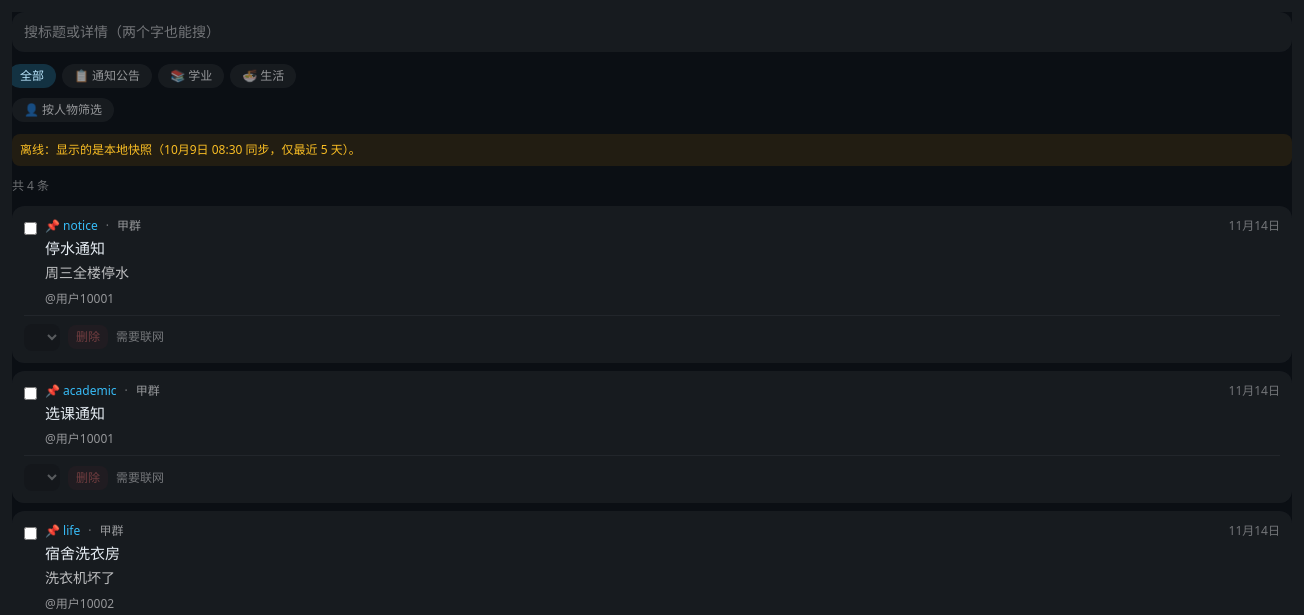
⭐ T6：离线 ⇒ 人物筛选器**有名单**(从快照取 persons),不是空名单/消失
Check: the text "停水通知" is shown, box [45, 238, 105, 258]
Click the button "👤 按人物筛选" at [63, 110], box [12, 98, 114, 122]
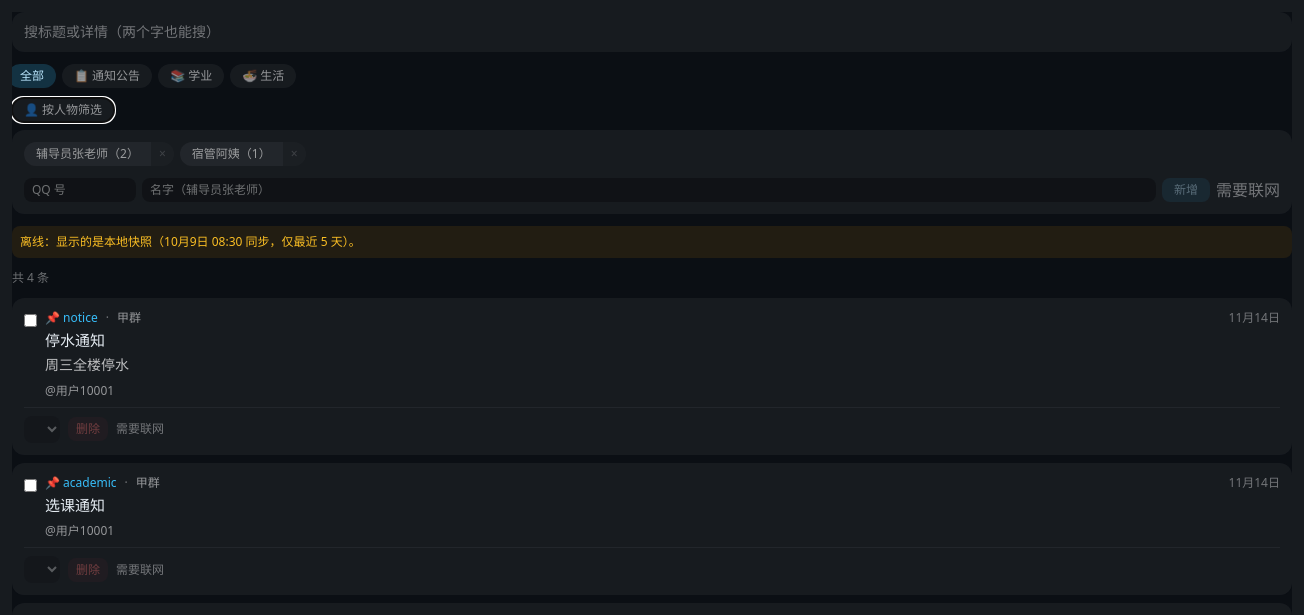
Check: the button "辅导员张老师（2）" is shown, box [24, 142, 151, 166]
Check: the button "宿管阿姨（1）" is shown, box [180, 142, 283, 166]
